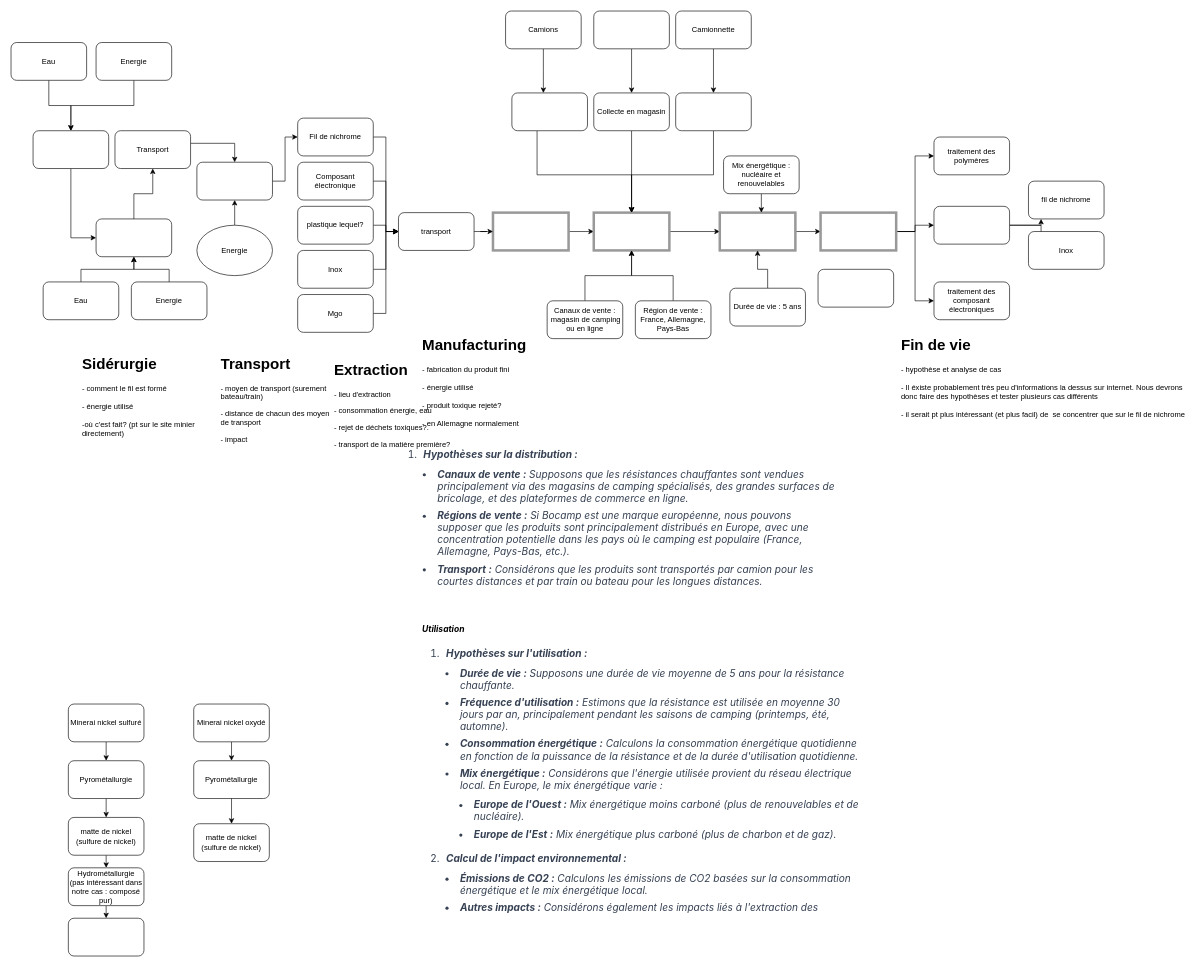
Image size: 1201x967. Some labels were removed from this diagram. The shapes that lost their labels are listed below. From the top down, each one's centre as x and y in pixels, then its label:
pixel 631 29: véhicule personel ou vélo
pixel 549 111: Importation
pixel 713 111: Livraison
pixel 70 149: Extracion nickel Chrome
pixel 234 181: Usinage mise en forme du fil
pixel 133 237: métallurgie purification du nickel
pixel 530 231: Production
pixel 631 231: Distribution
pixel 757 231: Utilisation
pixel 858 231: Fin de vie
pixel 971 225: traitement des pièces métalliques
pixel 855 288: Fréquence d'utilisation : 30 jours par an
pixel 106 937: Nickel pure
